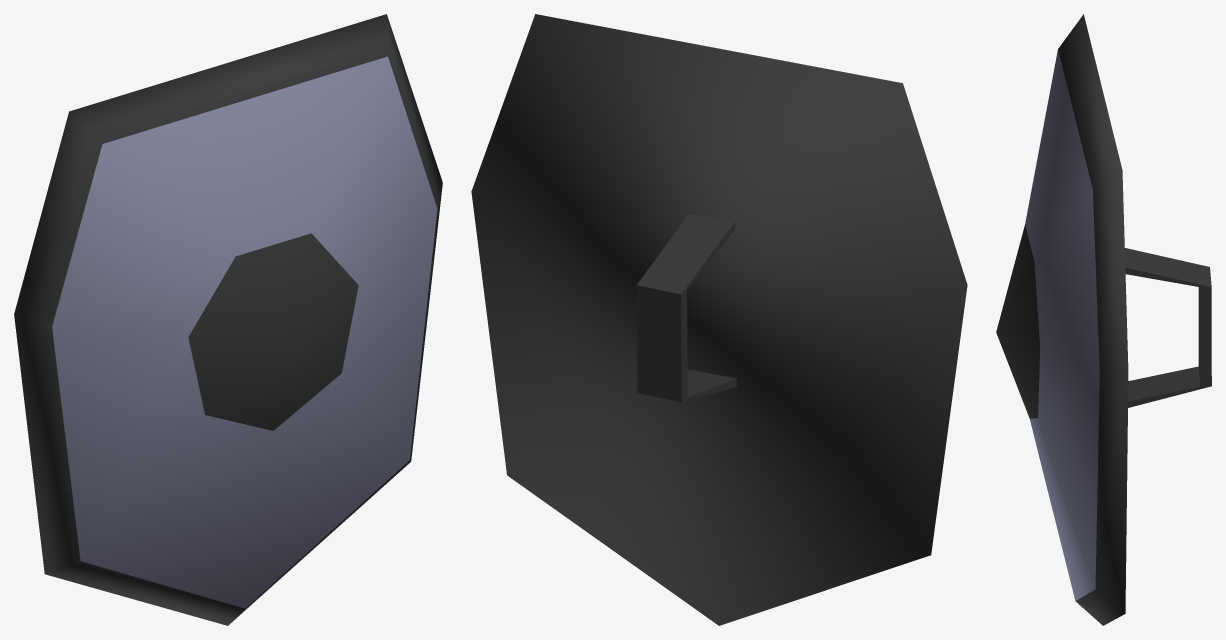
Rendered from mithril_shield.glb.
3 views of the same model, side by side, from view 1: azimuth 30°, elevation 25°; view 2: azimuth 150°, elevation 25°; view 3: azimuth 270°, elevation 25° (orthographic). The views are drawn at different scales.
Parts seen in each view (by area): view 1: Steel Shield; view 2: Steel Shield; view 3: Steel Shield.
Part boxes in pixels (bbox=[...]): Steel Shield: bbox=[14, 14, 442, 625]; Steel Shield: bbox=[471, 14, 967, 625]; Steel Shield: bbox=[996, 14, 1211, 625].
Bounding box in the file's own units: 0.2506 × 0.2955 × 0.1082.
